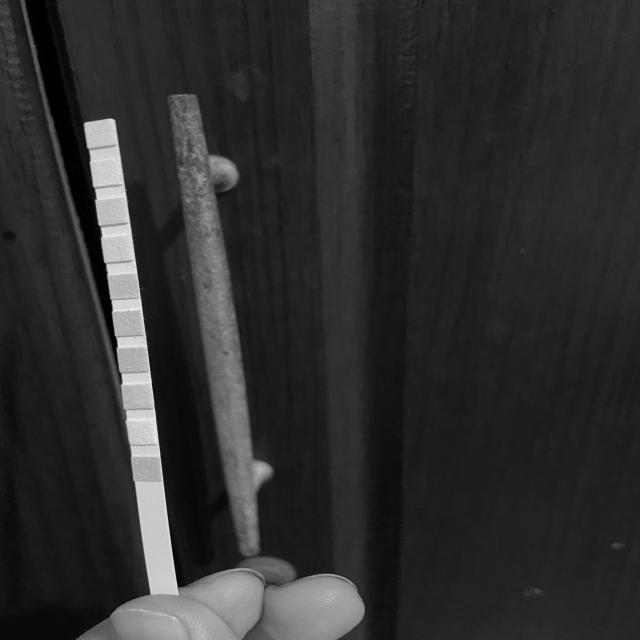Bilirubin: (130, 421, 156, 444)
Blood: (117, 312, 141, 335)
Glucose: (135, 457, 160, 481)
Ketone: (124, 385, 151, 408)
Leukocytes: (88, 123, 114, 145)
Nitrite: (94, 162, 120, 185)
Protein: (105, 238, 132, 260)
SpGravity: (120, 348, 148, 372)
Urobilinogen: (100, 200, 126, 222)
background: (0, 0, 640, 640)
pH: (112, 275, 136, 298)
strip: (85, 120, 177, 591)
